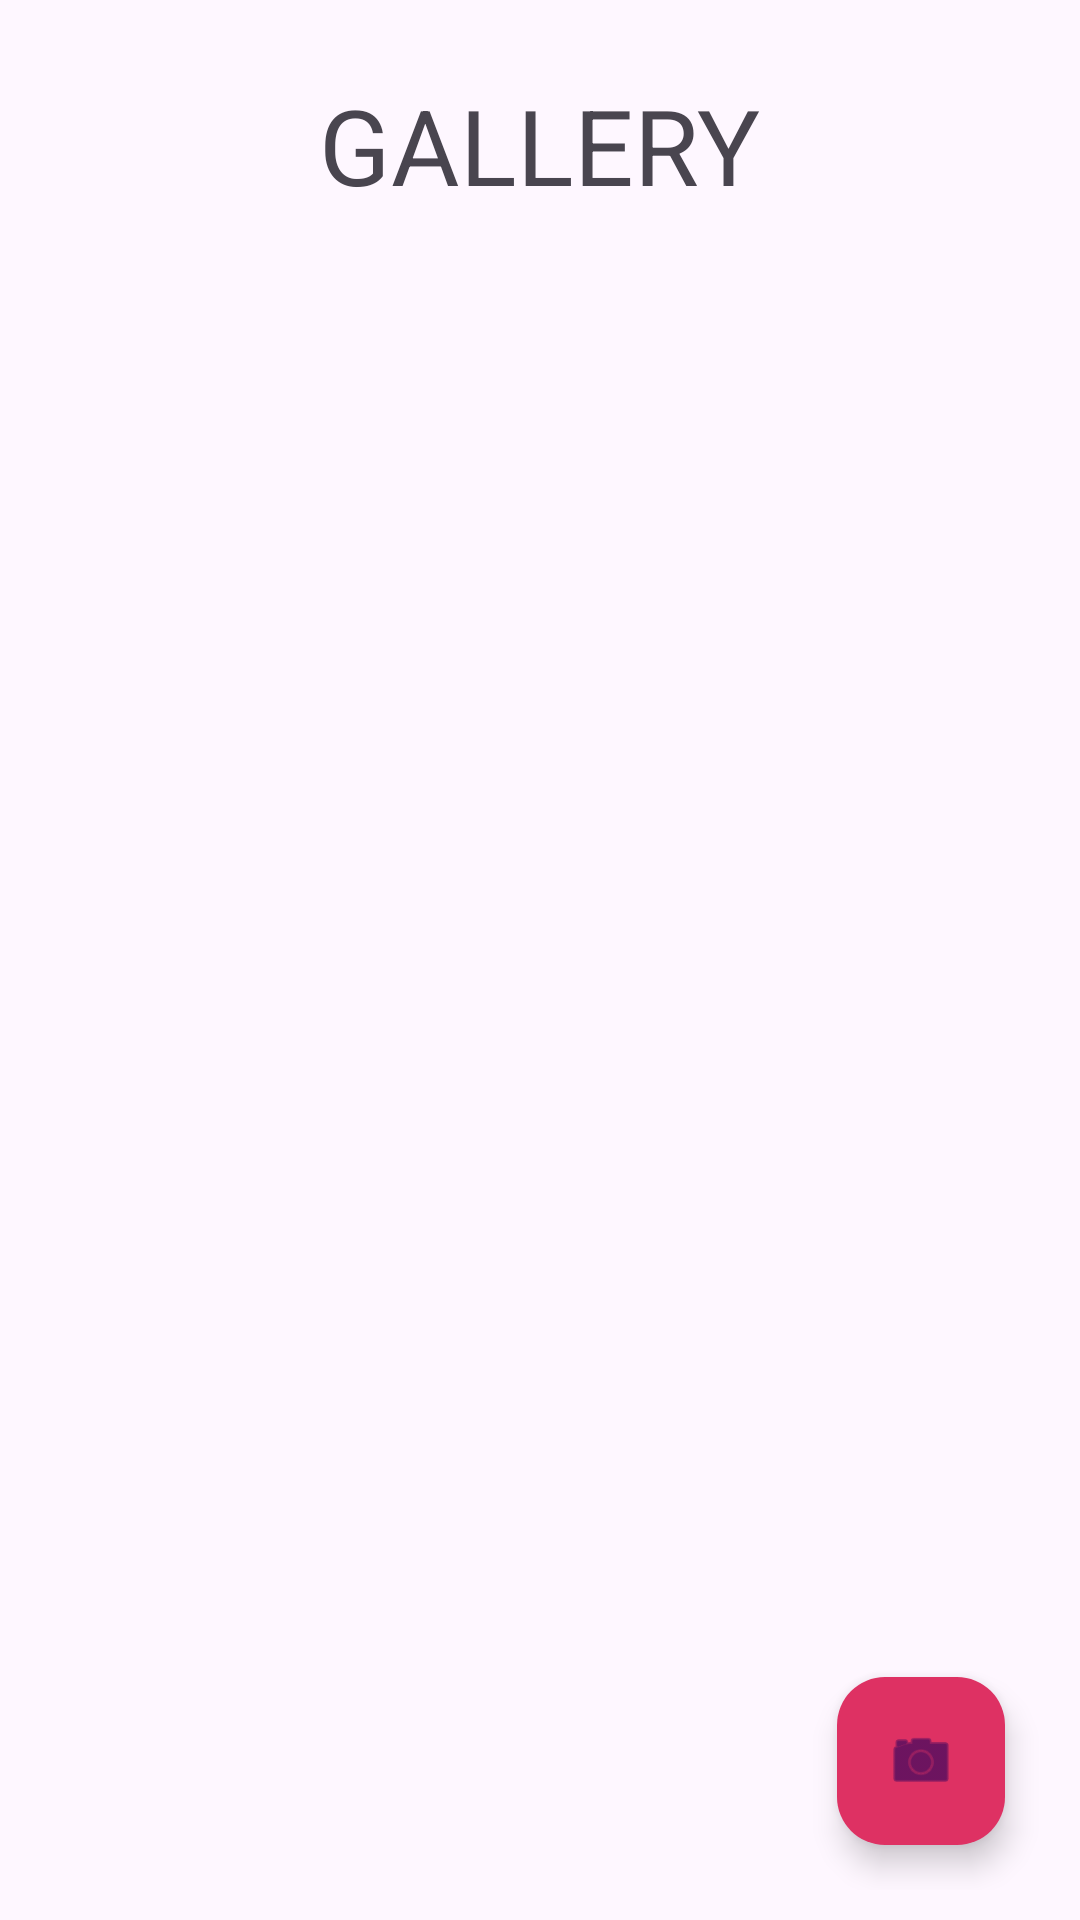

Screen size 1080*1920. Icon name, then its center in pixels as point (x, y):
camera: point (921, 1761)
